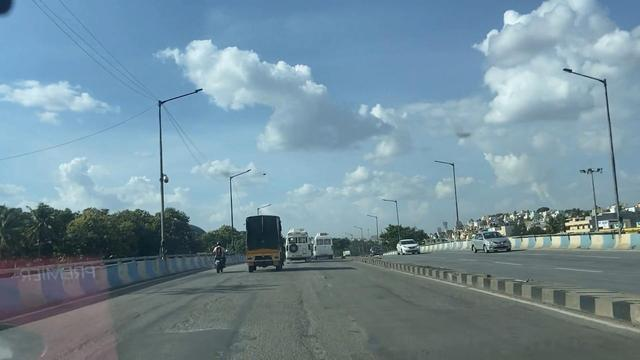HMV: (242, 209, 293, 269), (285, 227, 310, 260), (312, 227, 333, 265)
LMV: (211, 242, 233, 274)
RoadDamages: (141, 301, 390, 357)
